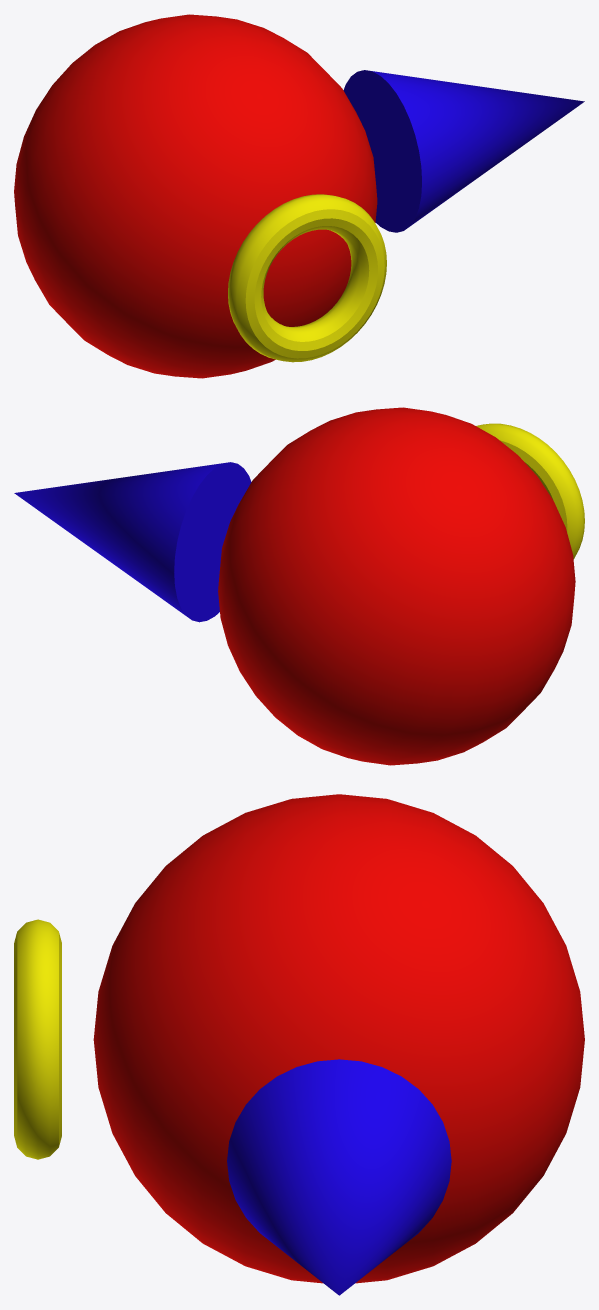
3 renders of one model, top to bottom at view 1: azimuth 30°, elevation 25°; view 2: azimuth 150°, elevation 25°; view 3: azimuth 270°, elevation 25°, orthographic. The views are drawn at different scales.
Visible parts, largest first — view 1: Sphere, Cone, Torus; view 2: Sphere, Cone, Torus; view 3: Sphere, Cone, Torus.
Boxes of the visible parts, bbox=[...] form: Sphere: bbox=[14, 14, 377, 378]; Cone: bbox=[343, 70, 584, 232]; Torus: bbox=[228, 194, 386, 362]; Sphere: bbox=[218, 407, 575, 765]; Cone: bbox=[14, 462, 251, 622]; Torus: bbox=[476, 423, 584, 558]; Sphere: bbox=[93, 794, 584, 1283]; Cone: bbox=[227, 1059, 451, 1295]; Torus: bbox=[14, 919, 61, 1159].
Size of the model in its own units: 347 by 200 by 232.
